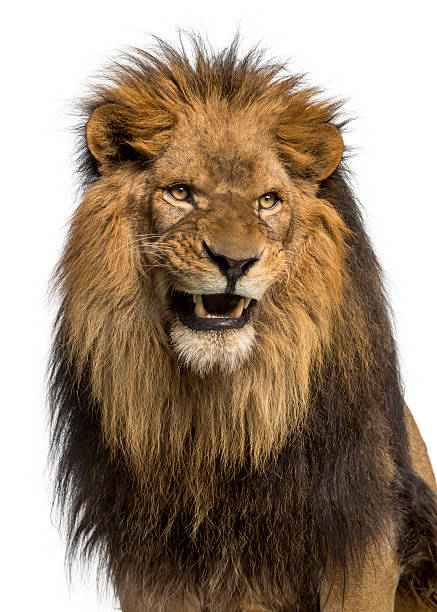lion: (32, 17, 412, 612)
